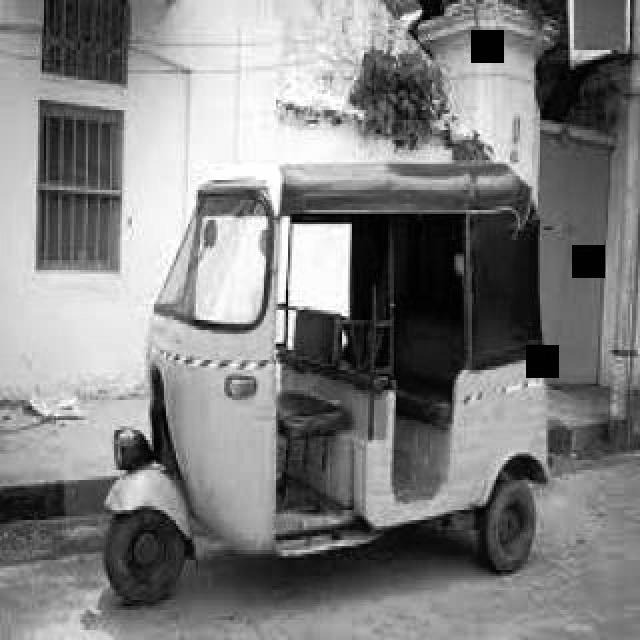Auto-Rickshaw: (74, 156, 560, 618)
